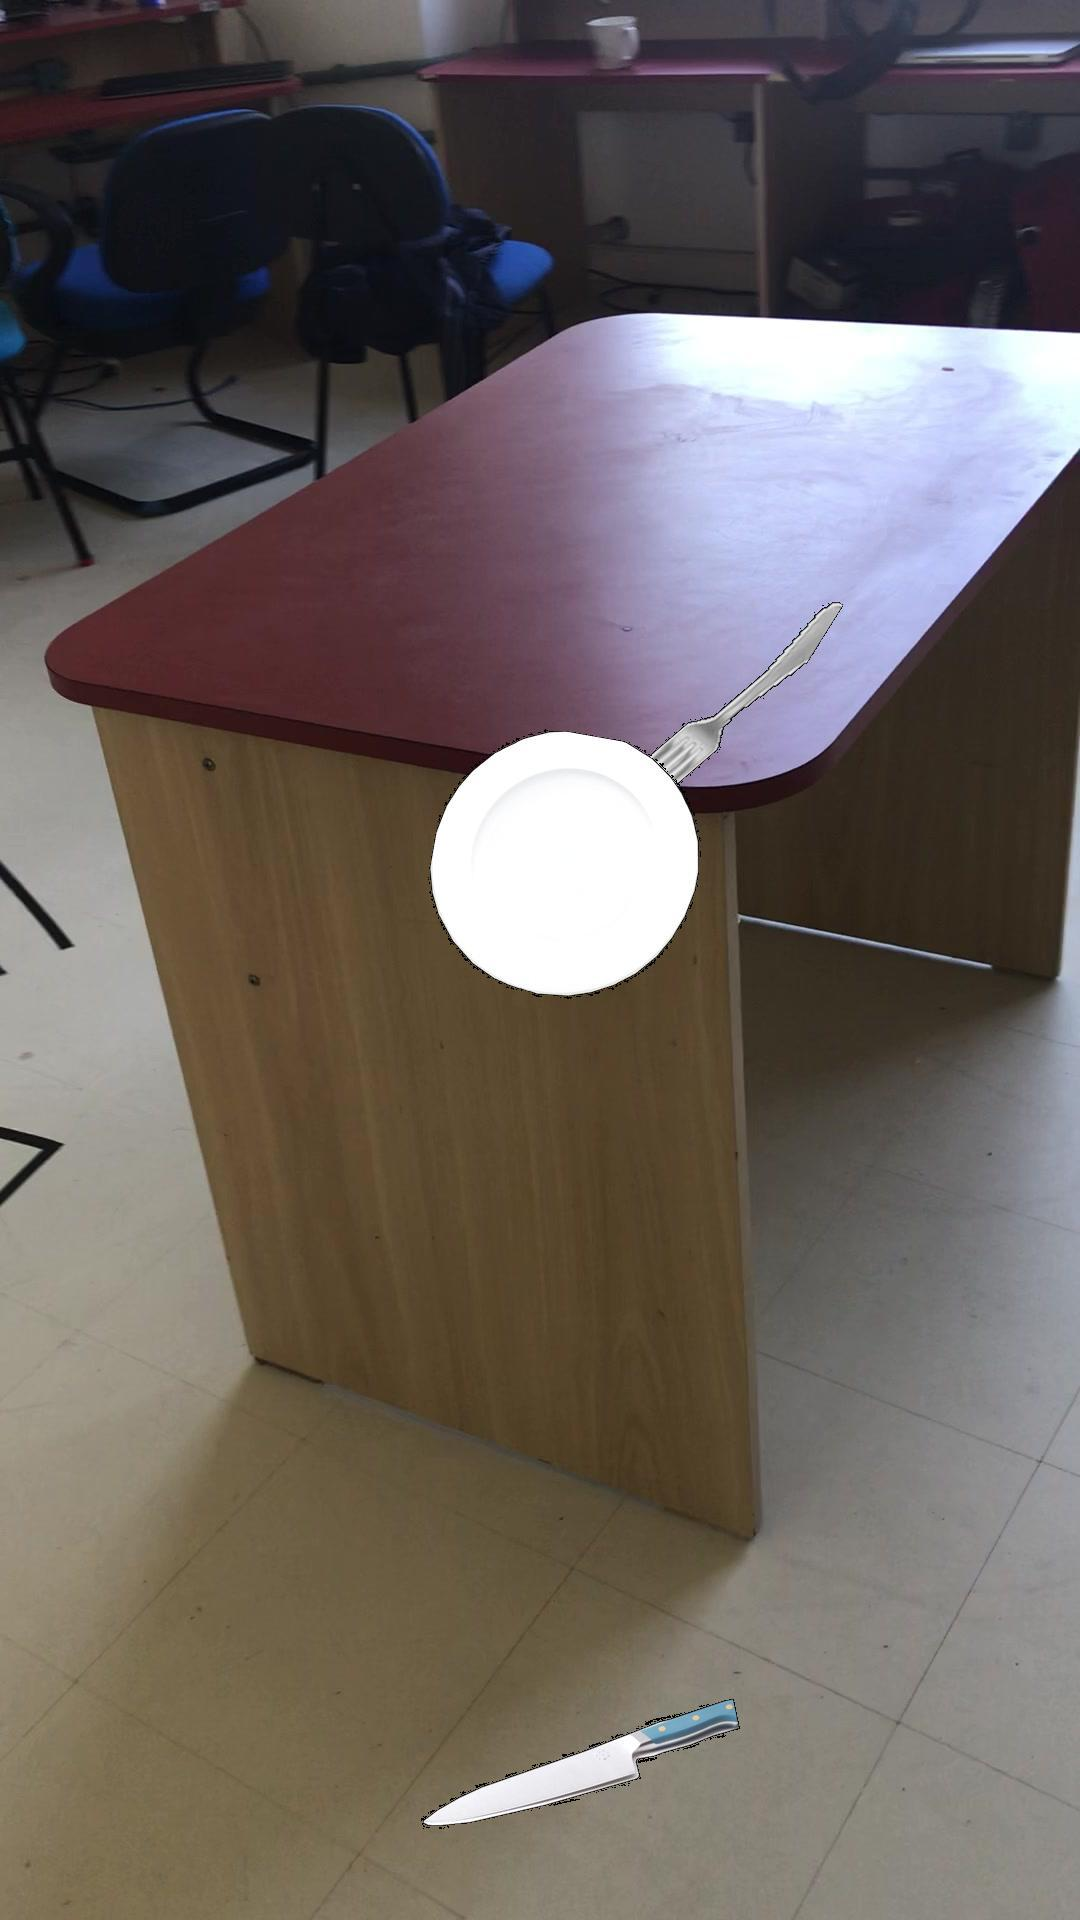fork: (649, 600, 841, 782)
knife: (419, 1698, 738, 1826)
plate: (427, 728, 698, 997)
